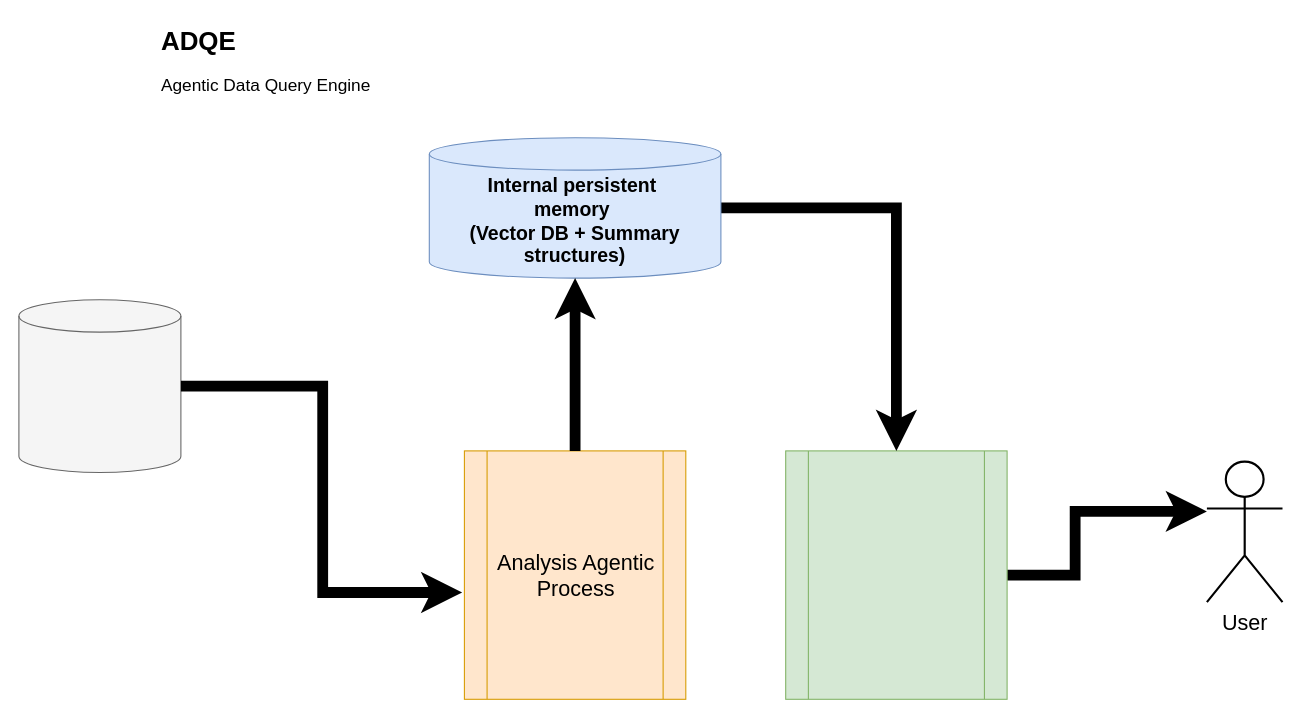
Image size: 1302x718. Some labels were removed from this diagram. Here are the shapes that lost their labels. From the top down, the box of each, then its label:
(18, 299, 181, 473): Data Source
(785, 450, 1007, 699): Querying Agentic Process
